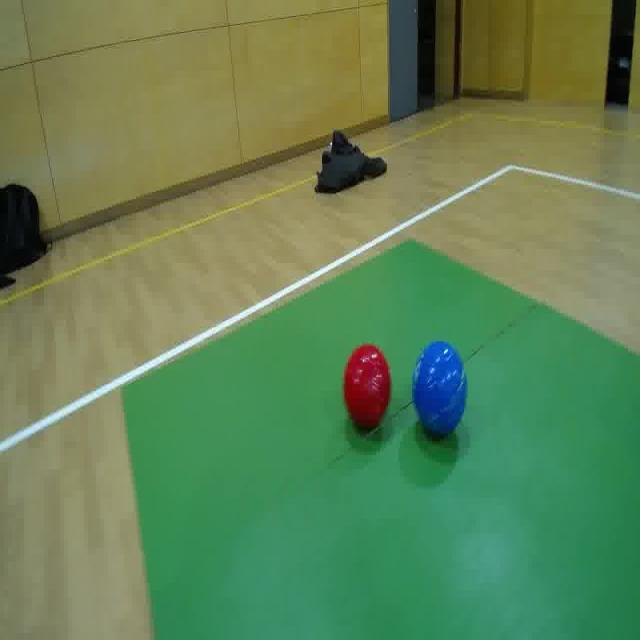blue_ball: (410, 335, 471, 435)
red_ball: (341, 338, 392, 437)
